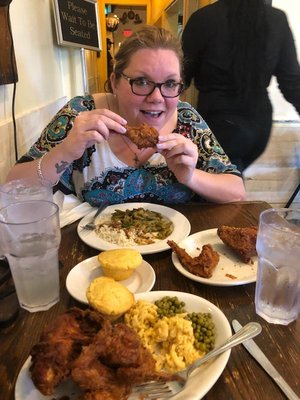burger: (123, 320, 260, 400)
pizza: (0, 200, 62, 310), (254, 208, 300, 327)
